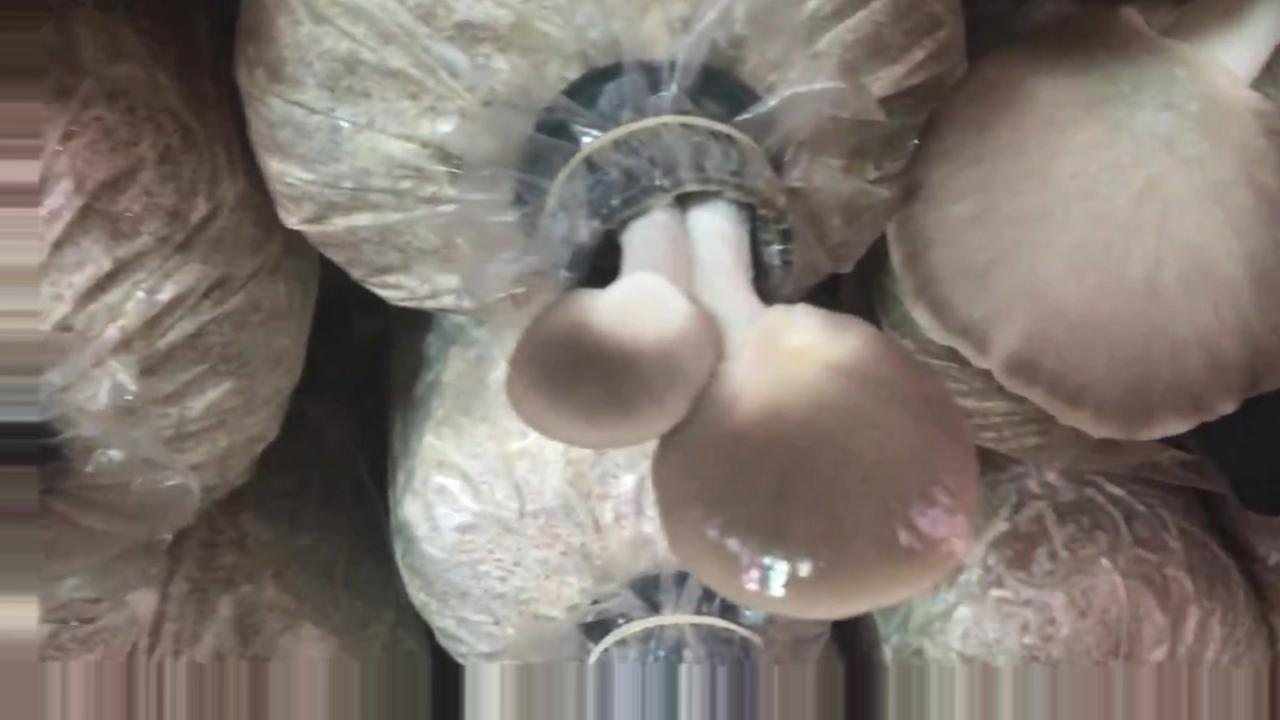nam: (509, 93, 984, 627), (884, 4, 1280, 448)
